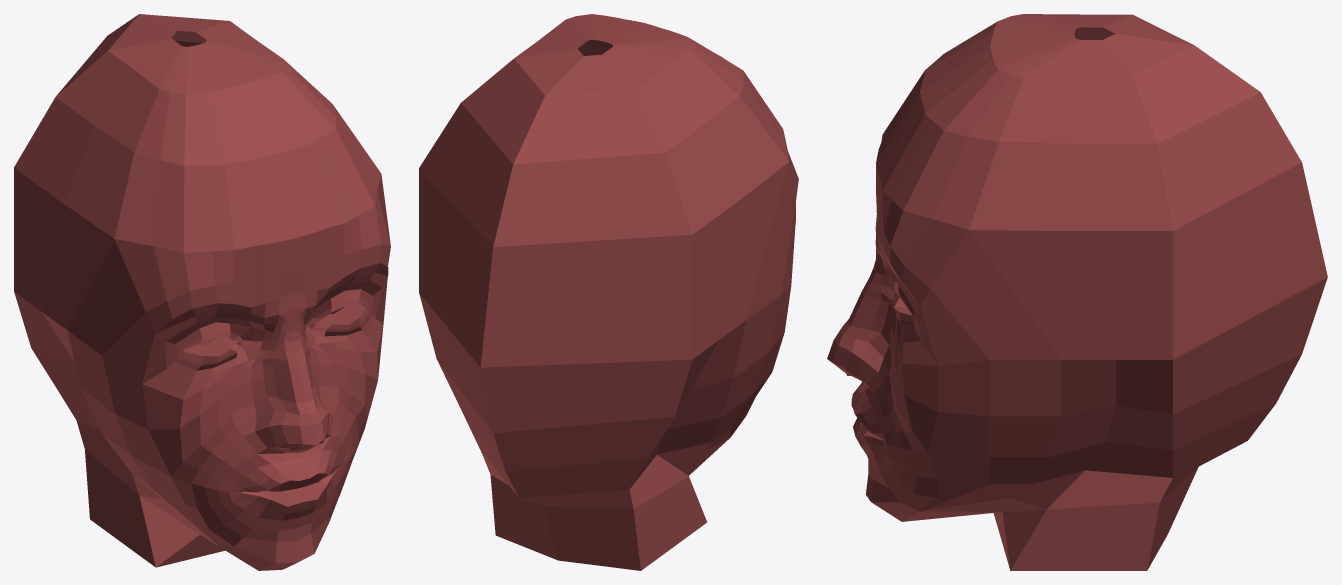
The model's file is 3d-model-head.glb.
The picture shows the model from 3 angles, left to right: view 1: azimuth 30°, elevation 25°; view 2: azimuth 150°, elevation 25°; view 3: azimuth 270°, elevation 25°; orthographic projection. The views are drawn at different scales.
Visible parts, largest first — view 1: Face (4, Web); view 2: Face (4, Web); view 3: Face (4, Web).
Part boxes in pixels (box(x1,y1,x2,y2)): Face (4, Web): box(14, 14, 390, 570); Face (4, Web): box(419, 14, 798, 570); Face (4, Web): box(827, 14, 1327, 570).
Size of the model in its own units: 0.126 by 0.214 by 0.194.
